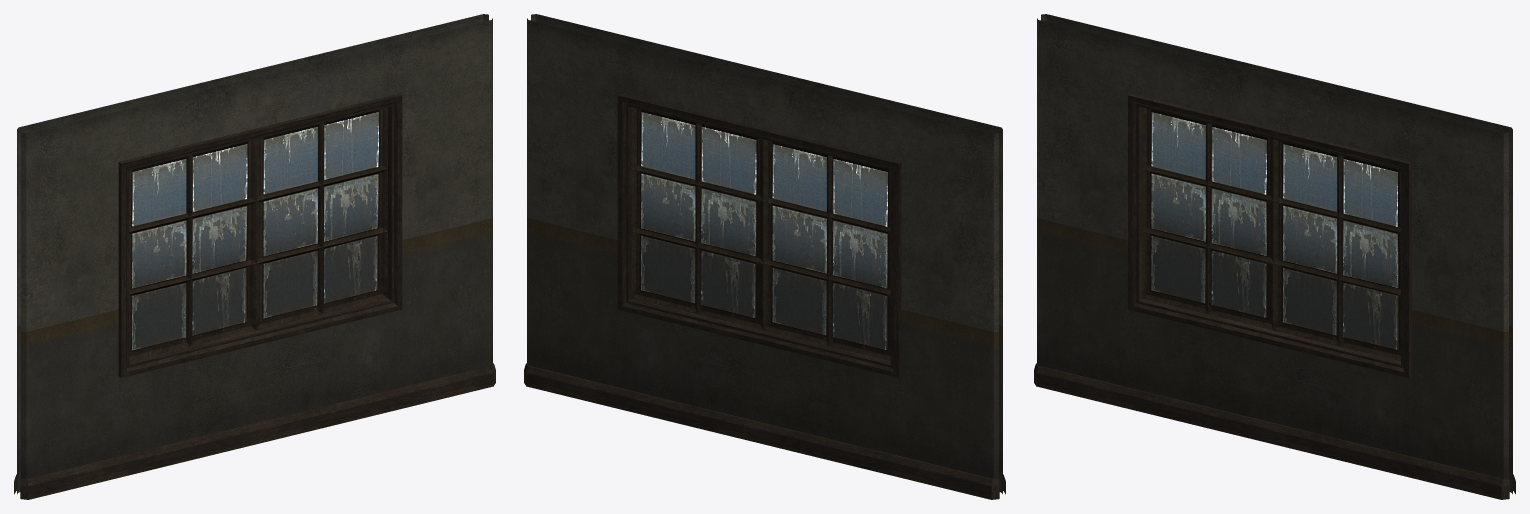
File: window_2_double.fbx
3 renders of one model, left to right at view 1: azimuth 30°, elevation 25°; view 2: azimuth 150°, elevation 25°; view 3: azimuth 330°, elevation 25°, orthographic.
Visible parts, largest first — view 1: window_2_double; view 2: window_2_double; view 3: window_2_double.
Part boxes in pixels (<box>): window_2_double: <box>14,14,495,499</box>; window_2_double: <box>524,14,1005,499</box>; window_2_double: <box>1034,14,1515,499</box>.
Bounding box in the file's own units: 4.09 × 0.2 × 3.
